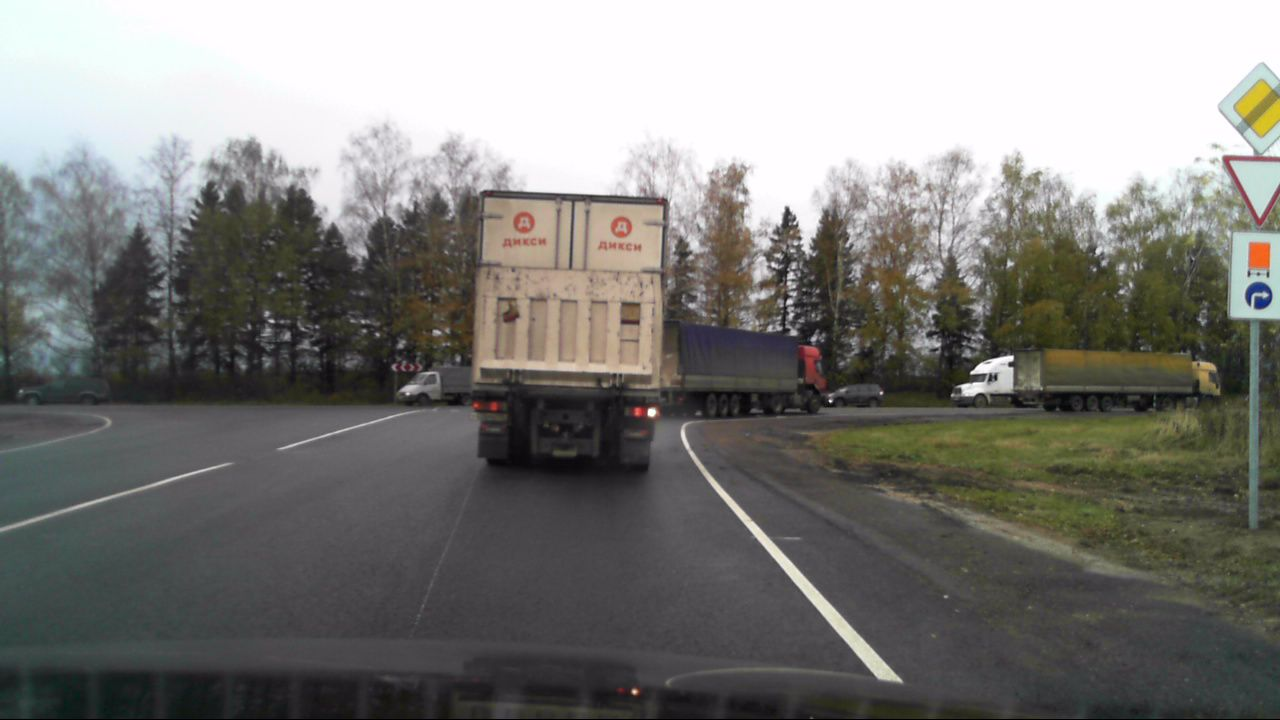main road: (1217, 61, 1279, 155)
